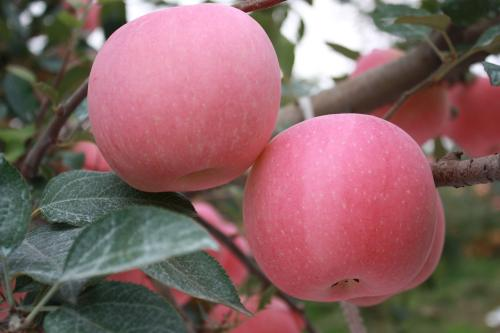apple: (88, 4, 282, 192), (243, 114, 437, 302)
